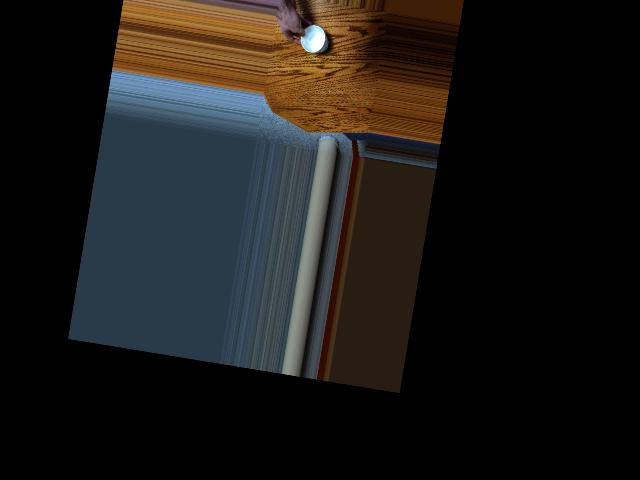cotage: (293, 17, 330, 59)
